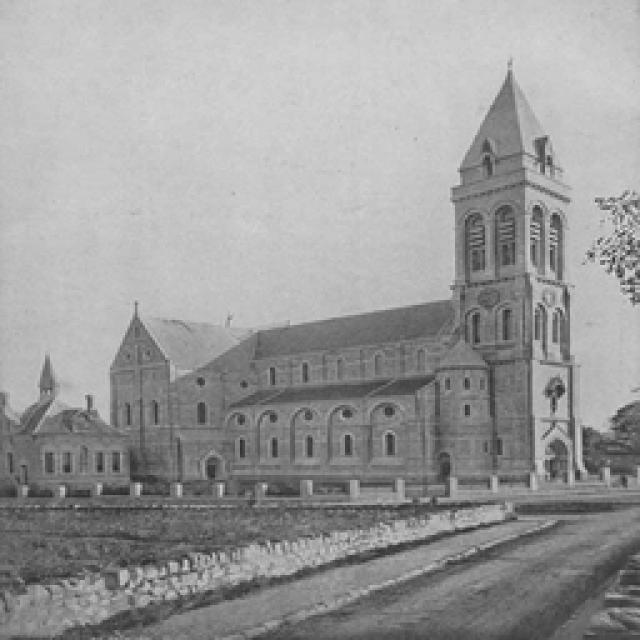Abbey: (24, 303, 566, 473)
